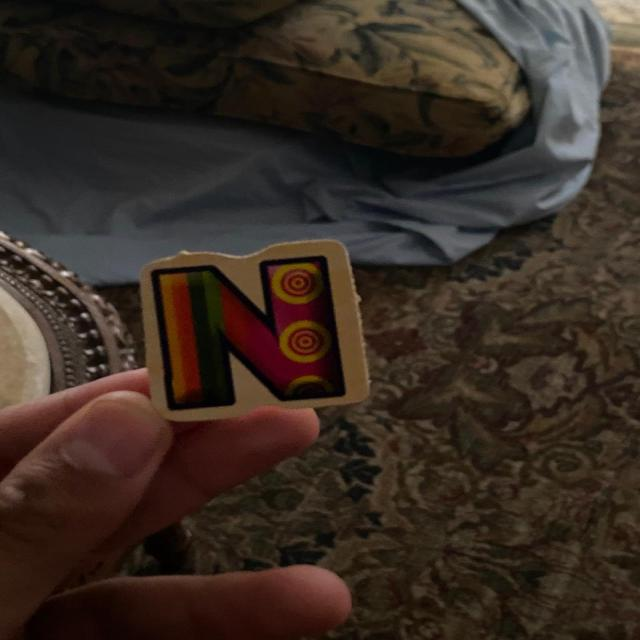N: (141, 239, 369, 421)
